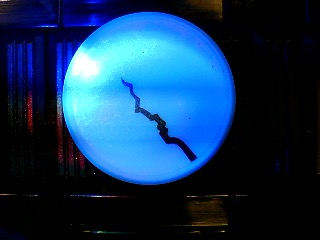CRACK: (61, 10, 237, 186)
